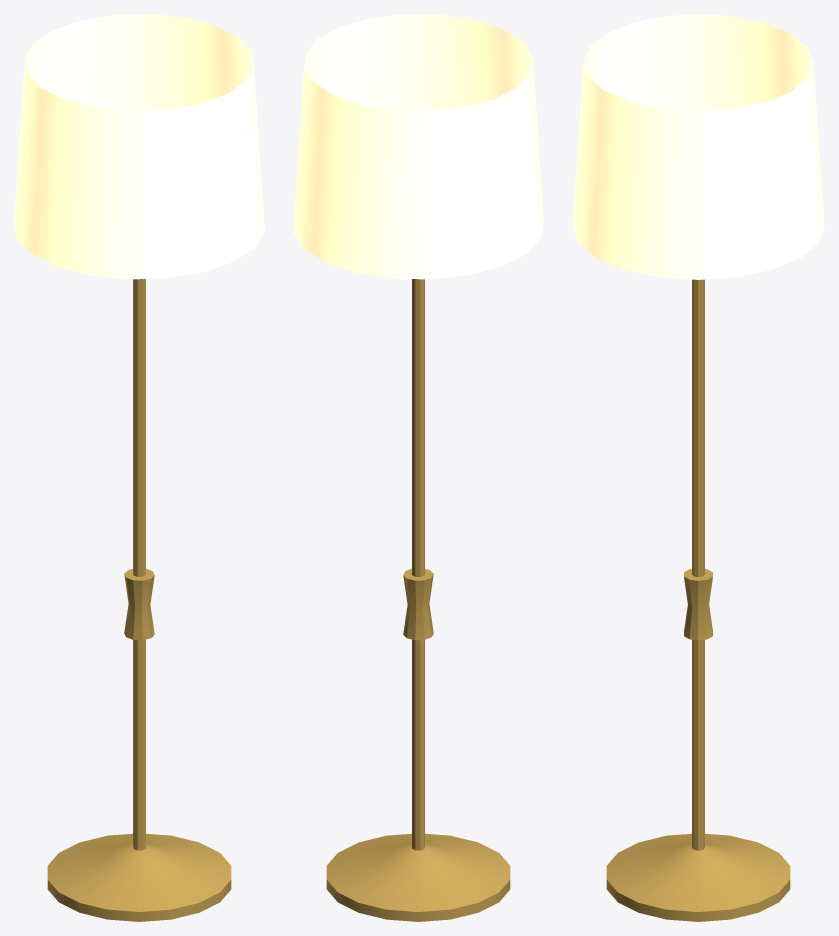
Rendered from floor_lamp.glb.
3 renders of one model, left to right at view 1: azimuth 30°, elevation 25°; view 2: azimuth 150°, elevation 25°; view 3: azimuth 270°, elevation 25°, orthographic.
Visible parts, largest first — view 1: floor_lamp; view 2: floor_lamp; view 3: floor_lamp.
Boxes of the visible parts, x1,y1,x2,y2 form: floor_lamp: (14, 14, 264, 921); floor_lamp: (293, 14, 543, 921); floor_lamp: (572, 14, 824, 921).
Size of the model in its own units: 0.46 by 1.65 by 0.46.
